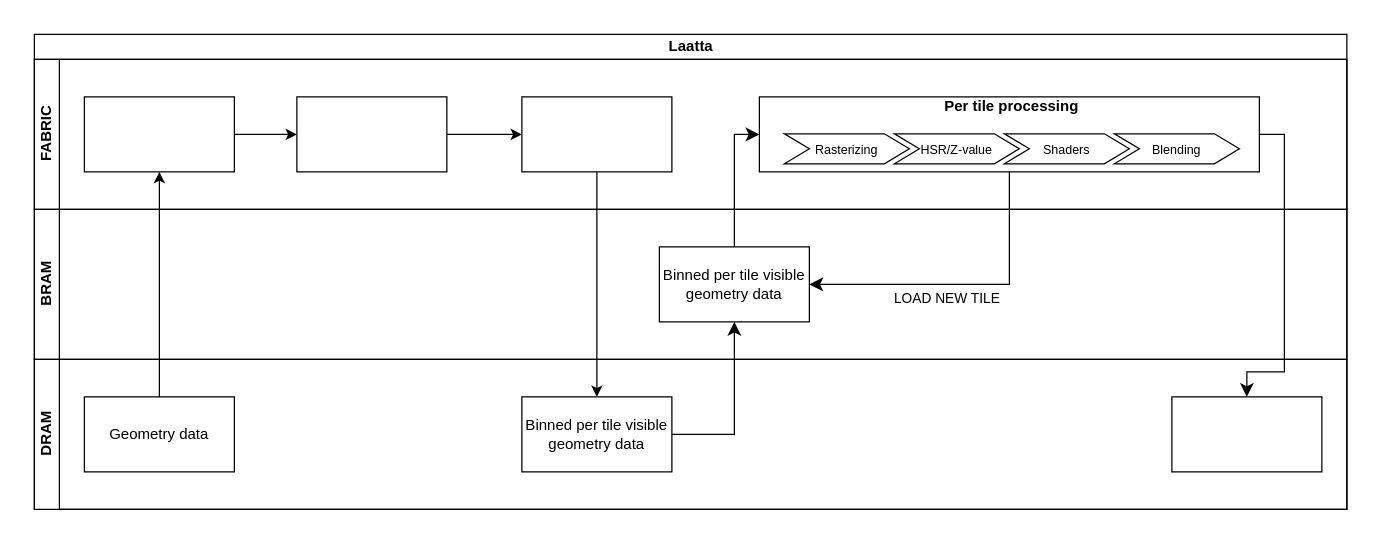
This 1380x555 diagram has some shape labels left out. Each missing label, with the centre of its shape:
Binning: pixel 596 134
Clipping/culling: pixel 371 134
Processed tile data: pixel 1246 434
Vertex processing: pixel 158 134
